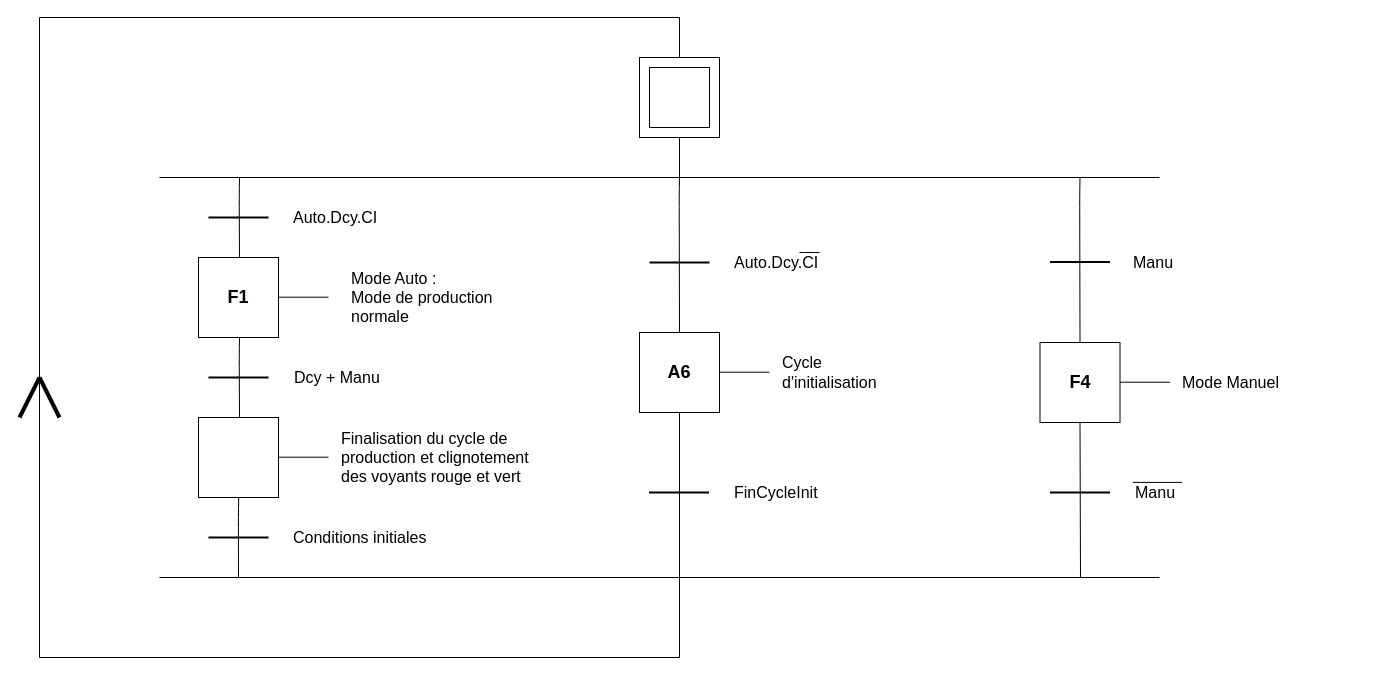
The diagram is 1384 pixels wide and 676 high, and some of its shapes have lost their labels. The shapes that lost their labels are listed below. From the top down, each one's centre as x and y in pixels, then its label:
At (679,97): "X0".
At (238,457): "A2".
